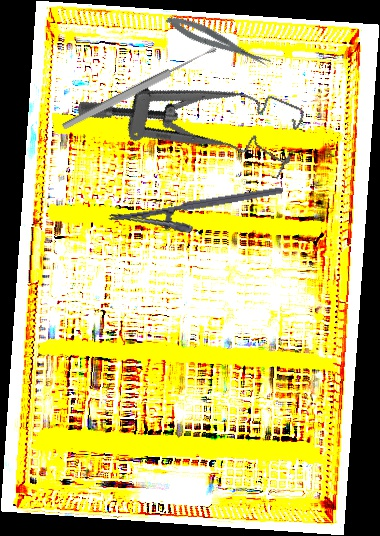Micro Scissor: (163, 10, 273, 74)
Needle Holder: (107, 185, 288, 246)
Speculum: (74, 29, 311, 199)
Surgical Spoon: (60, 44, 219, 132)
